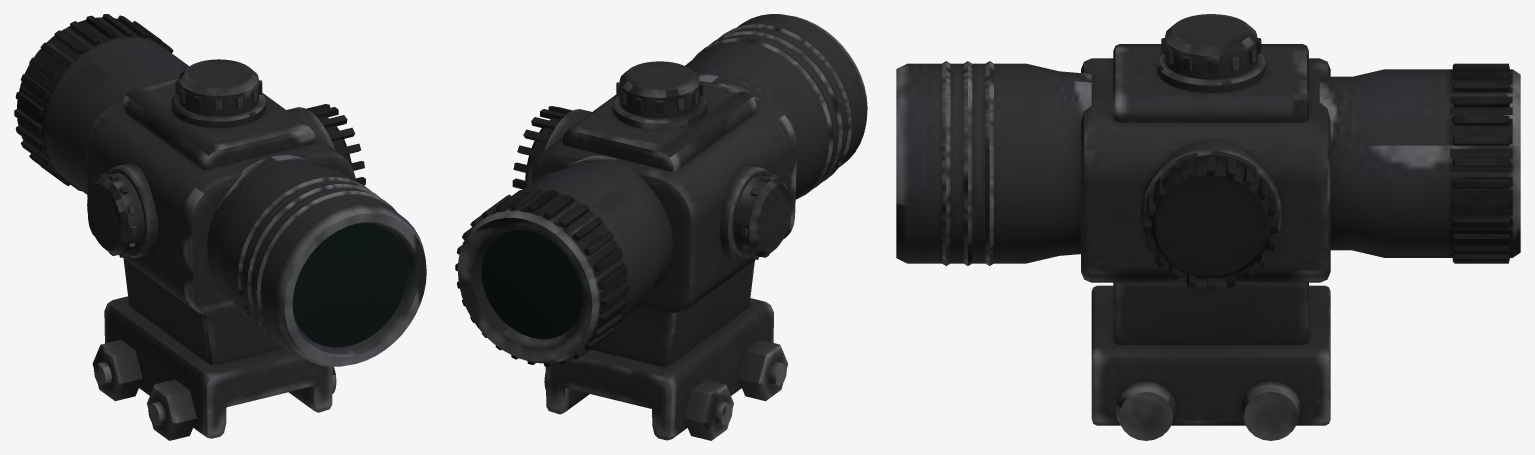
The model's file is scope_3x.glb.
The picture shows the model from 3 angles, left to right: view 1: azimuth 30°, elevation 25°; view 2: azimuth 150°, elevation 25°; view 3: azimuth 270°, elevation 25°; orthographic projection. The views are drawn at different scales.
Parts seen in each view (by area): view 1: body, lens_front; view 2: body, lens; view 3: body.
Boxes of the visible parts, box(x1,y1,x2,y2) form: body: box(14, 14, 426, 440); lens_front: box(292, 223, 407, 347); body: box(455, 14, 867, 440); lens: box(481, 230, 582, 338); body: box(896, 14, 1520, 440).
Size of the model in its own units: 0.057 by 0.0751 by 0.115.
2 materials, 1 textured.
